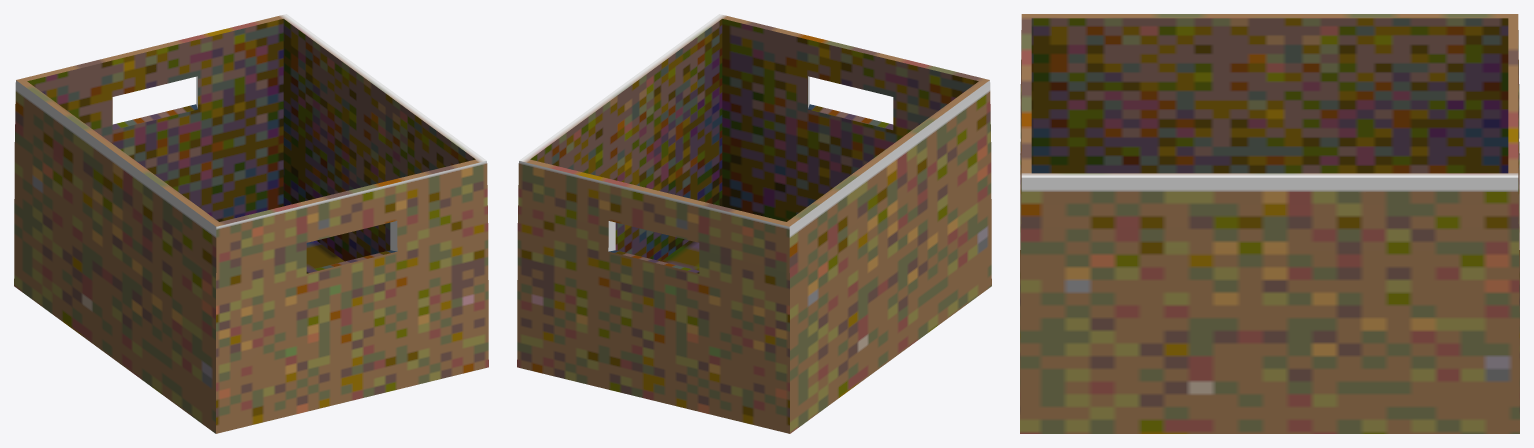
The model's file is Cajón_Cartón.fbx.
3 views of the same model, side by side, from view 1: azimuth 30°, elevation 25°; view 2: azimuth 150°, elevation 25°; view 3: azimuth 270°, elevation 25° (orthographic). The views are drawn at different scales.
Parts seen in each view (by area): view 1: Caja2; view 2: Caja2; view 3: Caja2.
Boxes of the visible parts, left/top/right/bottom form: Caja2: left=14, top=14, right=488, bottom=433; Caja2: left=517, top=14, right=991, bottom=433; Caja2: left=1020, top=14, right=1519, bottom=433.
Bounding box in the file's own units: 1.44 × 1.04 × 1.85.
